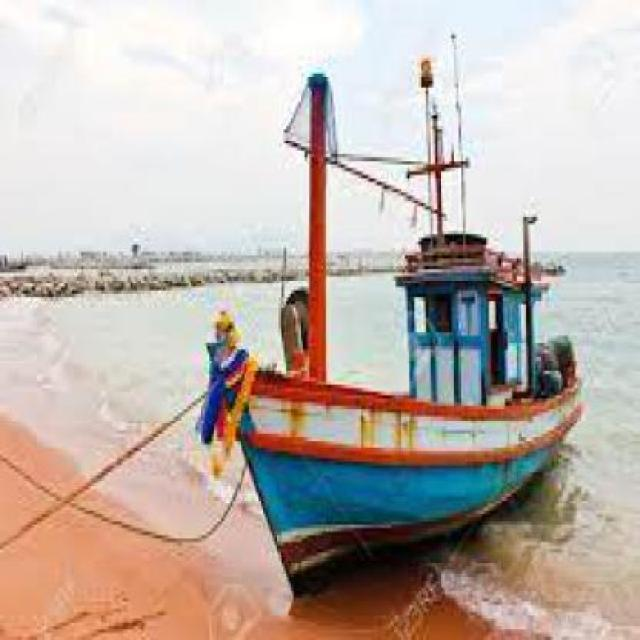fish-b: (192, 15, 601, 606)
